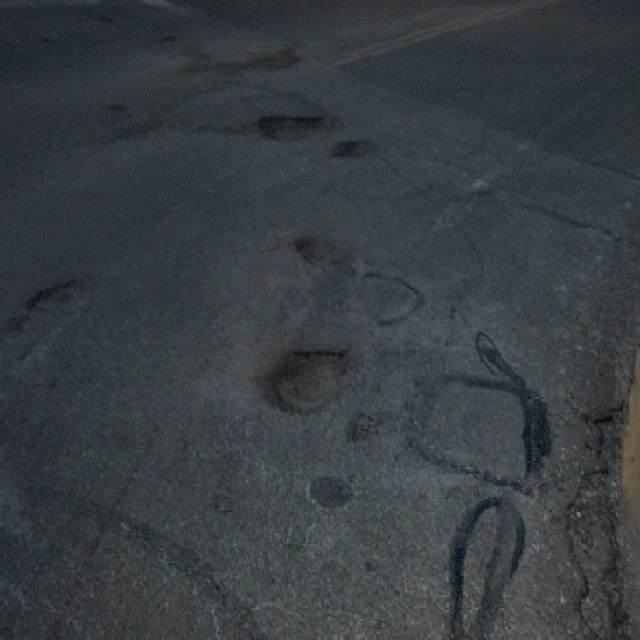pothole: (564, 405, 634, 638), (263, 343, 359, 414), (256, 107, 342, 143), (26, 275, 86, 320), (329, 135, 375, 162)
